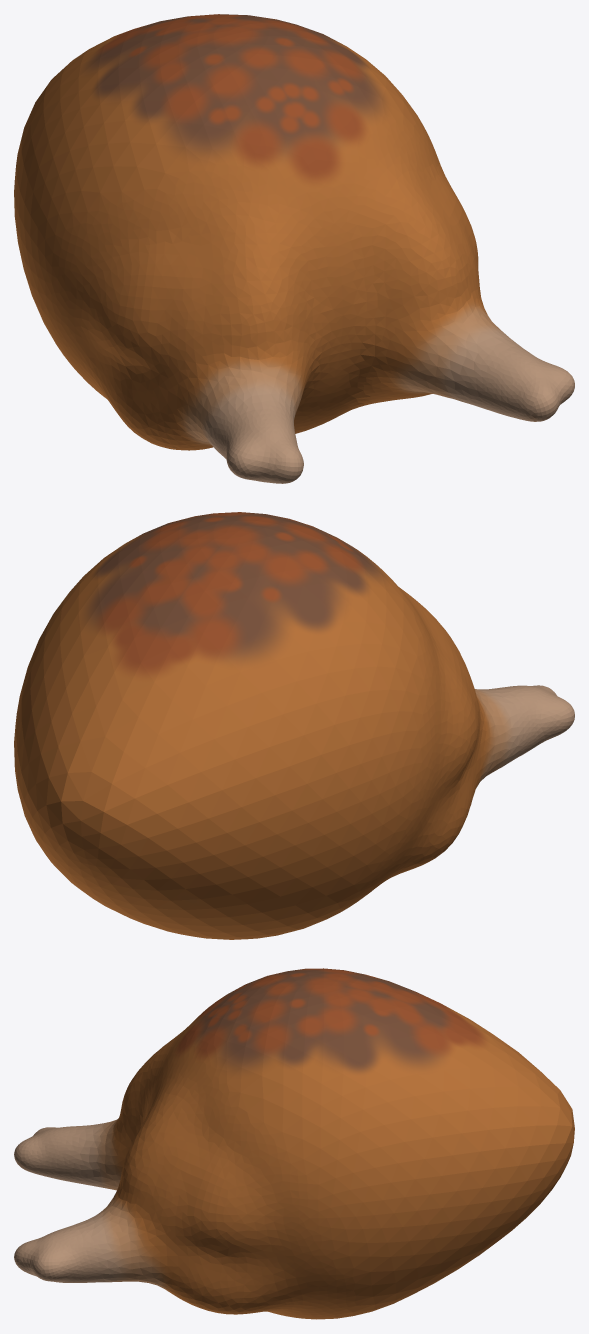
Rendered from kip_vt.obj.
The picture shows the model from 3 angles, top to bottom: view 1: azimuth 30°, elevation 25°; view 2: azimuth 150°, elevation 25°; view 3: azimuth 270°, elevation 25°; orthographic projection. The views are drawn at different scales.
Bounding box in the file's own units: 2 × 1.99 × 3.19.
1 material, 1 textured.
